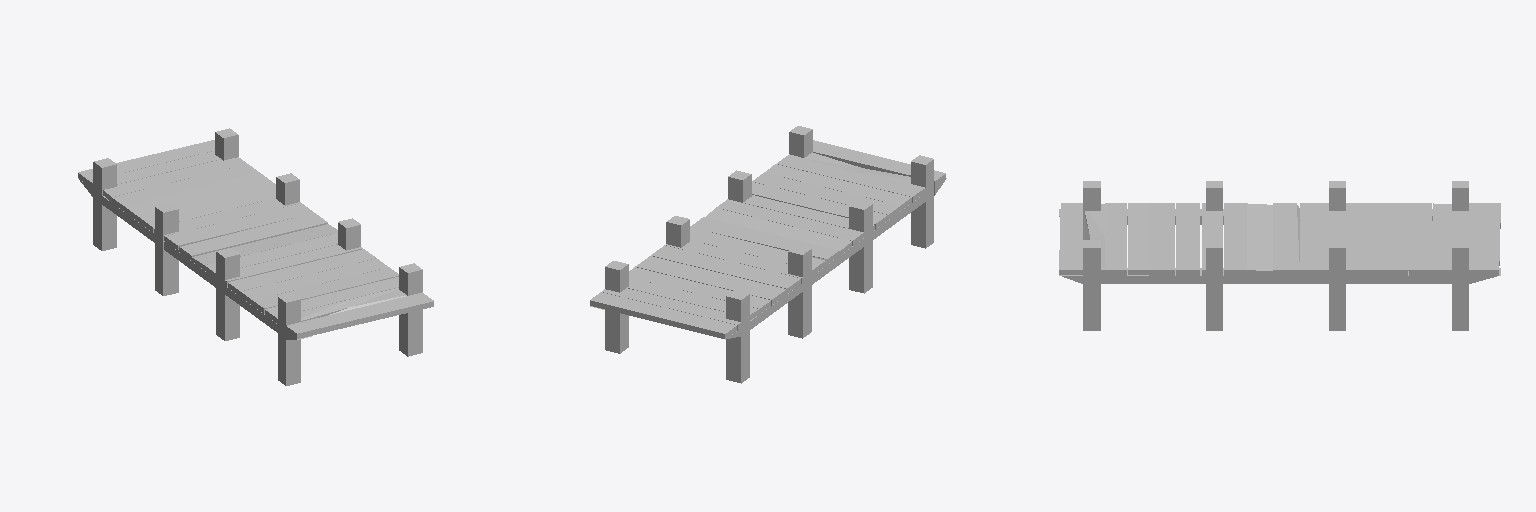
Rendered from MuelleWood.obj.
3 renders of one model, left to right at view 1: azimuth 30°, elevation 25°; view 2: azimuth 150°, elevation 25°; view 3: azimuth 270°, elevation 25°, orthographic.
Parts seen in each view (by area): view 1: Cylinder.017, Cylinder.020, Cylinder.021, Cylinder.016, Cylinder.006, Cylinder.003, Cylinder, Cylinder.005, Cylinder.014, Cylinder.015, Cylinder.001, Cylinder.026 (+14 smaller); view 2: Cylinder.029, Cylinder.020, Cylinder.018, Cylinder.006, Cylinder.005, Cylinder.003, Cylinder.022, Cylinder, Cylinder.021, Cylinder.023, Cylinder.011, Cylinder.007 (+14 smaller); view 3: Cylinder.020, Cylinder.018, Cylinder.021, Cylinder.016, Cylinder.022, Cylinder.015, Cylinder.014, Cylinder.026, Cylinder.029, Cylinder.023, Cylinder.017, Cylinder.011 (+14 smaller).
Boxes of the visible parts, x1,y1,x2,y2 form: Cylinder.017: [286, 292, 433, 338]; Cylinder.020: [124, 173, 274, 221]; Cylinder.021: [178, 213, 327, 260]; Cylinder.016: [165, 203, 313, 250]; Cylinder.006: [93, 158, 116, 250]; Cylinder.003: [216, 248, 239, 340]; Cylinder: [278, 293, 300, 385]; Cylinder.005: [155, 203, 178, 295]; Cylinder.014: [228, 249, 375, 295]; Cylinder.015: [240, 258, 387, 305]; Cylinder.001: [399, 263, 422, 356]; Cylinder.026: [112, 164, 259, 210]; Cylinder.029: [590, 292, 736, 338]; Cylinder.020: [635, 256, 786, 305]; Cylinder.018: [651, 245, 800, 293]; Cylinder.006: [726, 290, 749, 383]; Cylinder.005: [788, 245, 811, 338]; Cylinder.003: [849, 200, 872, 293]; Cylinder.022: [704, 208, 851, 254]; Cylinder: [911, 155, 933, 248]; Cylinder.021: [690, 217, 839, 265]; Cylinder.023: [716, 199, 863, 245]; Cylinder.011: [764, 164, 911, 210]; Cylinder.007: [605, 261, 628, 353]; Cylinder.020: [1378, 203, 1408, 275]; Cylinder.018: [1349, 203, 1377, 275]; Cylinder.021: [1273, 203, 1299, 275]; Cylinder.016: [1299, 203, 1325, 275]; Cylinder.022: [1247, 203, 1272, 275]; Cylinder.015: [1151, 203, 1174, 275]; Cylinder.014: [1176, 203, 1199, 275]; Cylinder.026: [1409, 203, 1432, 275]; Cylinder.029: [1477, 203, 1500, 275]; Cylinder.023: [1224, 203, 1246, 275]; Cylinder.017: [1059, 203, 1082, 274]; Cylinder.011: [1128, 203, 1150, 275].
Size of the model in its own units: 5.15 by 3 by 14.39.